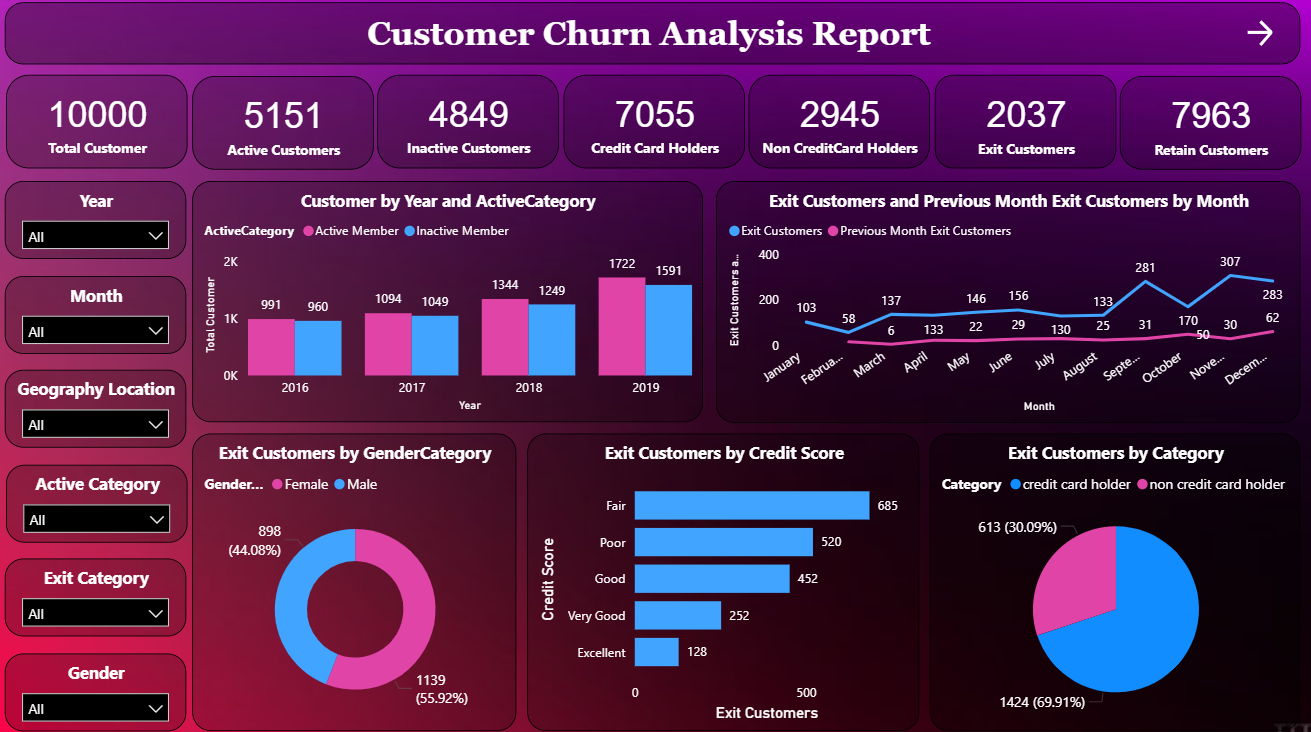

Layout of this report page (visuals, bound fields, positions):
{"tool":"powerbi","page":{"name":"Page 1","canvas":[1280,720],"ordinal":0},"visuals":[{"type":"slicer","title":"Month","fields":{"Values":["Date Master.Month"]},"box":[13.8,269.9,175,75.5],"z":0},{"type":"textbox","box":[13.8,6.2,1250,60],"z":1000},{"type":"card","title":"Total Customers","fields":{"Values":["Calculation.Total Customer"]},"box":[15,76.2,175,90],"z":2000,"group":"g1"},{"type":"slicer","title":"Year","fields":{"Values":["Date Master.Year"]},"box":[13.8,178.8,175,75.5],"z":2000},{"type":"group","id":"g1","title":"Group 1","box":[15,76.2,1250,91.2],"z":3000},{"type":"card","title":"Active Customers","fields":{"Values":["Calculation.Active Customer"]},"box":[194.2,77.4,175,90],"z":4000,"group":"g1"},{"type":"slicer","title":"Exit Category","fields":{"Values":["Exit Customer.ExitCategory"]},"box":[13.8,543.3,175,75.5],"z":4000},{"type":"card","title":"Non Credit Card Holders","fields":{"Values":["Calculation.Non CreditCard Holders"]},"box":[731.7,76.2,175,90],"z":5000,"group":"g1"},{"type":"slicer","title":"Active Category","fields":{"Values":["ActiveCustomer.ActiveCategory"]},"box":[15,452.2,175,75.5],"z":5000},{"type":"card","title":"Credit Card Holders","fields":{"Values":["Calculation.CreditCard Holder"]},"box":[552.5,76.2,175,90],"z":6000,"group":"g1"},{"type":"slicer","title":"Geography Location","fields":{"Values":["Geography.GeographyLocation"]},"box":[13.8,361,175,75.5],"z":6000},{"type":"card","title":"Inactive Customers","fields":{"Values":["Calculation.Inactive Customers"]},"box":[373.3,76.2,175,90],"z":7000,"group":"g1"},{"type":"slicer","title":"Gender","fields":{"Values":["Gender.GenderCategory"]},"box":[13.8,634.5,175,75.5],"z":7000},{"type":"card","title":"Retain Customers","fields":{"Values":["Calculation.Retain Customers"]},"box":[1090,77.4,175,90],"z":8000,"group":"g1"},{"type":"clusteredColumnChart","title":"Customer by Year and ActiveCategory","fields":{"Category":["Date Master.Year","Date Master.Month"],"Y":["Calculation.Total Customer"],"Series":["ActiveCustomer.ActiveCategory"]},"box":[193.8,178.8,492.5,232.5],"z":8000},{"type":"card","title":"Exit Customers","fields":{"Values":["Calculation.Exit Customers"]},"box":[910.8,76.2,175,90],"z":9000,"group":"g1"},{"type":"lineChart","fields":{"Category":["Date Master.Month"],"Y":["Calculation.Exit Customers","Calculation.Previous Month Exit Customers"]},"box":[700,178.8,563.8,233.8],"z":9000},{"type":"donutChart","fields":{"Y":["Calculation.Exit Customers"],"Category":["Gender.GenderCategory"]},"box":[193.8,422.5,312.5,287.5],"z":10000},{"type":"clusteredBarChart","fields":{"Y":["Calculation.Exit Customers"],"Category":["Bank_Churn.Credit Score"]},"box":[517.5,422.5,378.8,287.5],"z":11000},{"type":"actionButton","box":[1203.8,16.2,46.2,40],"z":12000},{"type":"pieChart","fields":{"Y":["Calculation.Exit Customers"],"Category":["CreditCard.Category"]},"box":[906.2,422.5,357.5,287.5],"z":13000}]}

Visuals, with their boxes in screenshot pixels (x1, y1, x2, y2), scaled from the page's 1280x720 canvas onto the 1311x732 screenshot:
"Month" slicer: select_region(14, 274, 193, 351)
textbox: select_region(14, 6, 1294, 67)
"Total Customers" card: select_region(15, 77, 195, 169)
"Year" slicer: select_region(14, 182, 193, 259)
"Group 1" group: select_region(15, 77, 1296, 170)
"Active Customers" card: select_region(199, 79, 378, 170)
"Exit Category" slicer: select_region(14, 552, 193, 629)
"Non Credit Card Holders" card: select_region(749, 77, 929, 169)
"Active Category" slicer: select_region(15, 460, 195, 536)
"Credit Card Holders" card: select_region(566, 77, 745, 169)
"Geography Location" slicer: select_region(14, 367, 193, 444)
"Inactive Customers" card: select_region(382, 77, 562, 169)
"Gender" slicer: select_region(14, 645, 193, 722)
"Retain Customers" card: select_region(1116, 79, 1296, 170)
"Customer by Year and ActiveCategory" clusteredColumnChart: select_region(198, 182, 703, 418)
"Exit Customers" card: select_region(933, 77, 1112, 169)
lineChart - Date Master.Month x Calculation.Exit Customers: select_region(717, 182, 1294, 419)
donutChart - Calculation.Exit Customers x Gender.GenderCategory: select_region(198, 430, 519, 722)
clusteredBarChart - Calculation.Exit Customers x Bank_Churn.Credit Score: select_region(530, 430, 918, 722)
actionButton: select_region(1233, 16, 1280, 57)
pieChart - Calculation.Exit Customers x CreditCard.Category: select_region(928, 430, 1294, 722)
